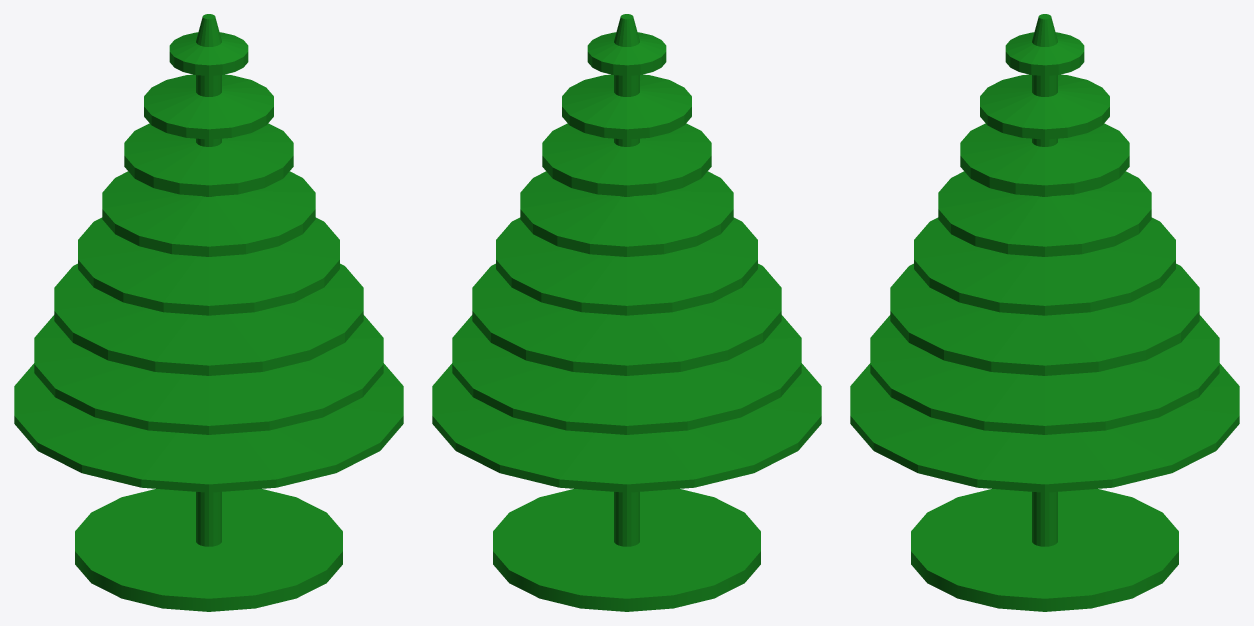
The model's file is tree.FBX.
The picture shows the model from 3 angles, left to right: view 1: azimuth 30°, elevation 25°; view 2: azimuth 150°, elevation 25°; view 3: azimuth 270°, elevation 25°; orthographic projection.
Parts seen in each view (by area): view 1: Cylinder001; view 2: Cylinder001; view 3: Cylinder001.
Part boxes in pixels (x1,y1,x2,y2): Cylinder001: [14, 14, 403, 611]; Cylinder001: [432, 14, 821, 611]; Cylinder001: [850, 14, 1239, 611].
Bounding box in the file's own units: 98.91 × 148 × 97.41.
